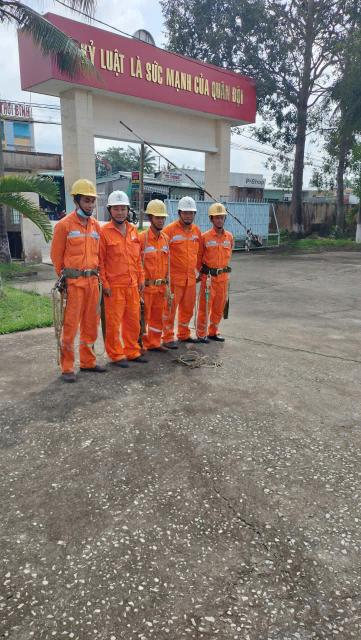harness: (63, 258, 107, 282), (194, 261, 238, 276), (143, 277, 171, 291)
helmet: (63, 166, 103, 202), (176, 187, 199, 213), (106, 188, 132, 210), (147, 193, 168, 218), (208, 200, 228, 221)
shoes: (101, 351, 129, 370), (74, 361, 110, 374), (123, 349, 149, 366), (189, 327, 210, 345), (147, 340, 169, 355), (159, 336, 179, 352), (179, 332, 200, 344), (60, 370, 79, 383), (211, 334, 229, 342)
